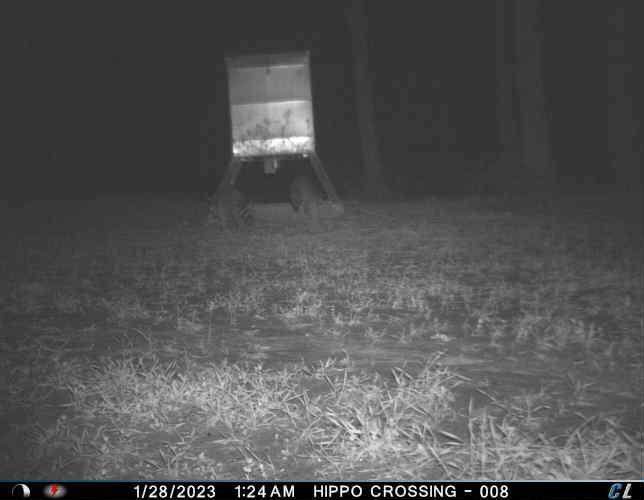Raccoon: (209, 181, 251, 234), (288, 168, 324, 219)
